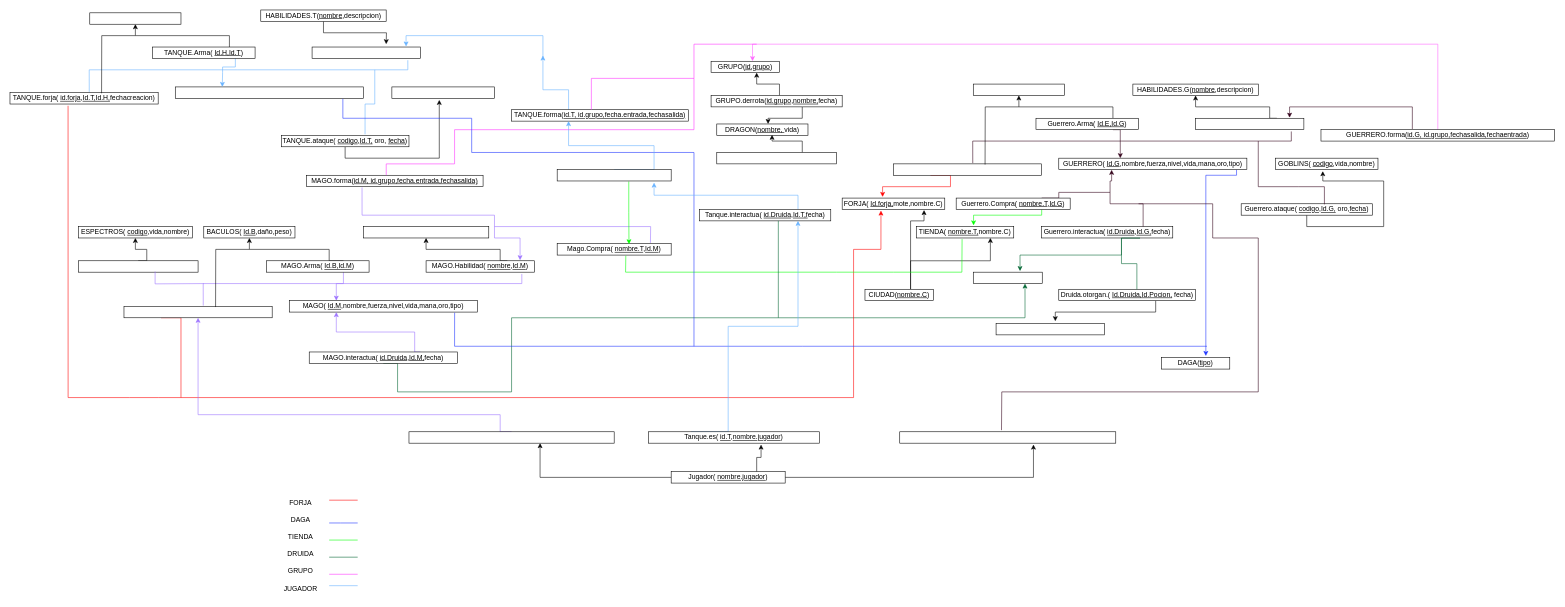
Image size: 1565x607. Some labels were removed from this diagram. The box of each missing label's shape, as (x1, y1, x2, y2) in pixels:
DRAGON.desbloquea( nombre,nombre ): (716, 152, 836, 164)
DRUIDA( Id.Druida ): (973, 272, 1042, 284)
ESPADAS( Id.E ,daño,peso): (973, 84, 1064, 95)
Guerrero.es( id.G , nombre.jugador ): (899, 431, 1116, 443)
Guerrero.forja( id.forja , Id.G,Id.E, fechacreacion): (893, 163, 1042, 175)
Guerrero.Habilidad( nombre , Id.G ): (1195, 118, 1304, 130)
HABILIDADES.M( nombre ,descripcion): (363, 226, 489, 238)
HACHAS( Id.H ,daño,peso): (89, 12, 181, 24)
MAGO.ataque( codigo , Id.M, oro, fecha ): (78, 260, 198, 272)
Mago.es( id.M , nombre.jugador ): (408, 431, 614, 443)
MAGO.forja( id.forja , Id.M,Id.B,fechacreacion ): (123, 306, 272, 318)
POCIONES( Id .Pocion, vida , mana): (996, 323, 1104, 335)
TANQUE( Id.T ,nombre,fuerza,nivel,vida,mana,oro,tipo): (175, 86, 363, 98)
Tanque.Compra( nombre.T , Id.T ): (557, 169, 671, 181)
TANQUE.Habilidad( nombre , Id.T ): (312, 46, 420, 58)
TROLLS( codigo ,vida,nombre): (391, 86, 494, 98)
